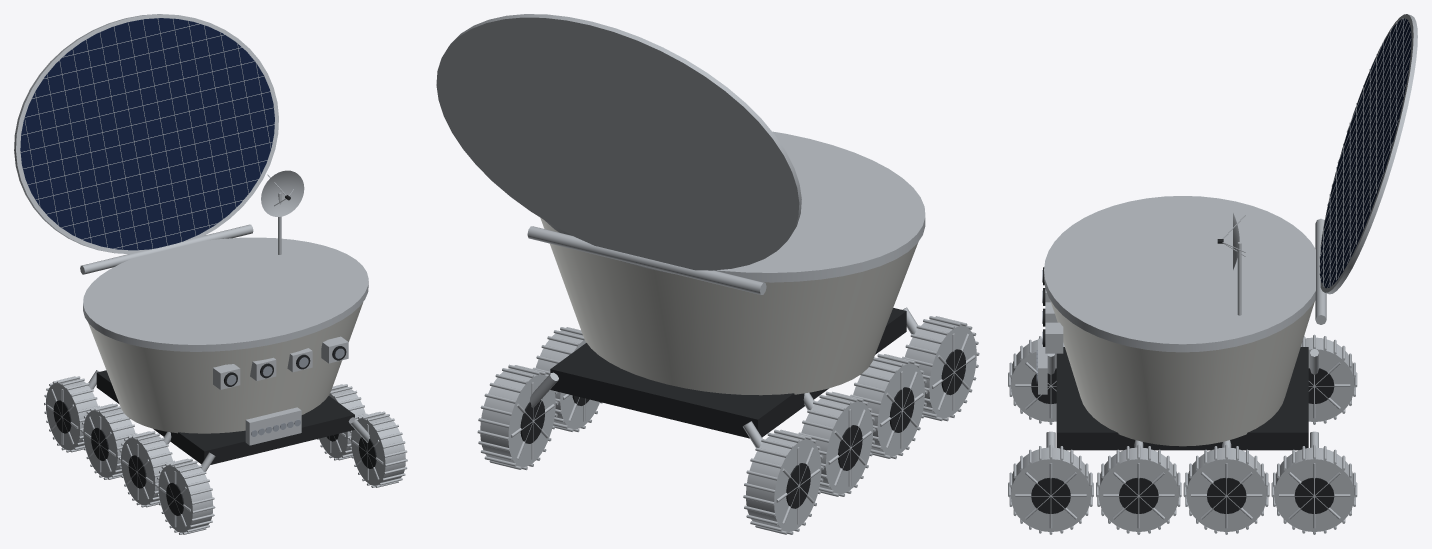
File: lunokhod1.glb
3 views of the same model, side by side, from view 1: azimuth 30°, elevation 25°; view 2: azimuth 150°, elevation 25°; view 3: azimuth 270°, elevation 25° (orthographic). The views are drawn at different scales.
Visible parts, largest first — view 1: lid_solar_cells, top_flange, thermal_tub, wheel_drum (×6), underframe, lid_shell, dish_reflector, laser_reflector, lid_hinge, camera_housing (×2); view 2: lid_shell, thermal_tub, wheel_drum (×6), top_flange, underframe, hub_cover (×5), lid_hinge; view 3: top_flange, thermal_tub, wheel_drum (×6), lid_solar_cells, underframe, hub_cover (×6), lid_shell, lid_hinge, camera_housing, laser_reflector.
Part boxes in pixels (x1=…): lid_solar_cells: x1=20, y1=18, x2=274, y2=250; top_flange: x1=83, y1=237, x2=368, y2=351; thermal_tub: x1=88, y1=302, x2=363, y2=433; wheel_drum (×6): x1=46, y1=378, x2=405, y2=532; underframe: x1=96, y1=370, x2=354, y2=464; lid_shell: x1=14, y1=14, x2=278, y2=254; dish_reflector: x1=261, y1=170, x2=304, y2=216; laser_reflector: x1=245, y1=407, x2=301, y2=445; lid_hinge: x1=80, y1=224, x2=253, y2=274; camera_housing (×2): x1=213, y1=336, x2=348, y2=389; lid_shell: x1=436, y1=14, x2=801, y2=270; thermal_tub: x1=540, y1=218, x2=918, y2=395; wheel_drum (×6): x1=480, y1=319, x2=976, y2=531; top_flange: x1=544, y1=131, x2=925, y2=282; underframe: x1=550, y1=308, x2=906, y2=438; hub_cover (×5): x1=520, y1=349, x2=965, y2=508; lid_hinge: x1=527, y1=226, x2=766, y2=294; top_flange: x1=1044, y1=196, x2=1315, y2=352; thermal_tub: x1=1050, y1=300, x2=1315, y2=446; wheel_drum (×6): x1=1011, y1=337, x2=1354, y2=531; lid_solar_cells: x1=1320, y1=18, x2=1411, y2=288; underframe: x1=1056, y1=347, x2=1308, y2=450; hub_cover (×6): x1=1031, y1=368, x2=1334, y2=513; lid_shell: x1=1320, y1=14, x2=1417, y2=294; lid_hinge: x1=1315, y1=218, x2=1326, y2=324; camera_housing: x1=1045, y1=322, x2=1063, y2=353; laser_reflector: x1=1038, y1=338, x2=1047, y2=394.
Size of the model in its own units: 2.16 by 2.97 by 2.52.
Materials: 5 (5 with a texture image).
